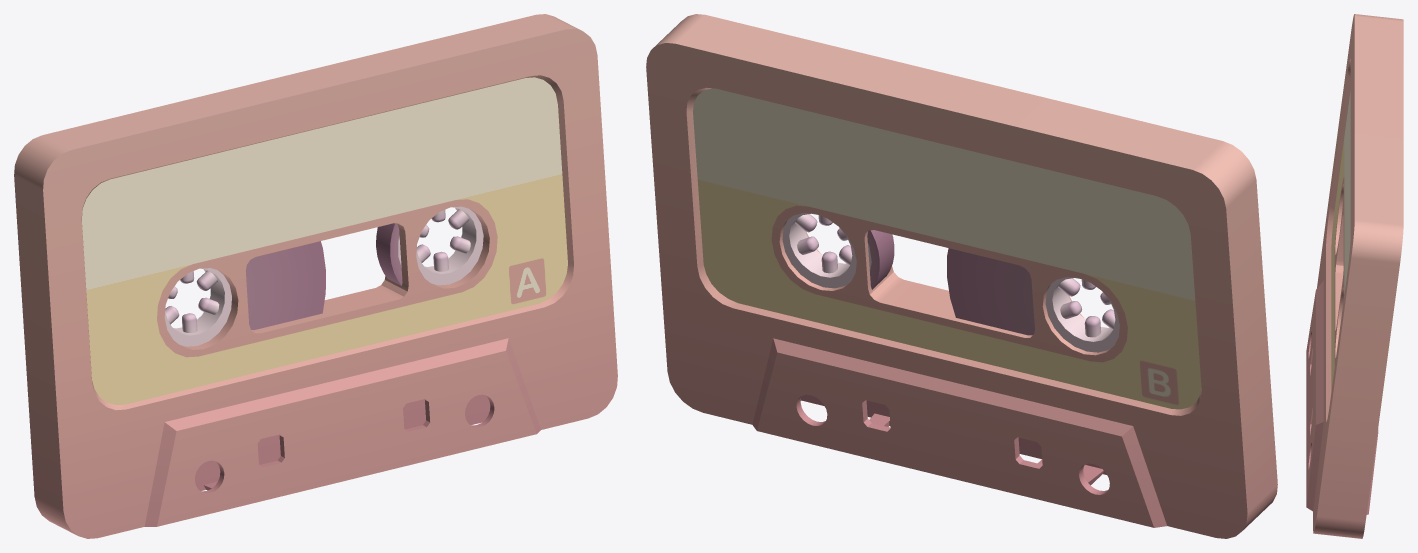
Rendered from 001CassetteFlip.fbx.
3 renders of one model, left to right at view 1: azimuth 30°, elevation 25°; view 2: azimuth 150°, elevation 25°; view 3: azimuth 270°, elevation 25°, orthographic. The views are drawn at different scales.
Parts seen in each view (by area): view 1: REFERENS_CASSETTE:Animatoin00:Cassette, REFERENS_CASSETTE:Animatoin00:Cassette_Tape_1_Left, REFERENS_CASSETTE:Animatoin00:Cassette_Tape_2_Right; view 2: REFERENS_CASSETTE:Animatoin00:Cassette, REFERENS_CASSETTE:Animatoin00:Cassette_Tape_1_Left, REFERENS_CASSETTE:Animatoin00:Cassette_Tape_2_Right; view 3: REFERENS_CASSETTE:Animatoin00:Cassette.
Boxes of the visible parts, x1=… form: REFERENS_CASSETTE:Animatoin00:Cassette: x1=14, y1=14, x2=617, y2=538; REFERENS_CASSETTE:Animatoin00:Cassette_Tape_1_Left: x1=164, y1=241, x2=325, y2=346; REFERENS_CASSETTE:Animatoin00:Cassette_Tape_2_Right: x1=376, y1=206, x2=483, y2=285; REFERENS_CASSETTE:Animatoin00:Cassette: x1=646, y1=14, x2=1277, y2=538; REFERENS_CASSETTE:Animatoin00:Cassette_Tape_1_Left: x1=947, y1=248, x2=1119, y2=352; REFERENS_CASSETTE:Animatoin00:Cassette_Tape_2_Right: x1=782, y1=213, x2=894, y2=289; REFERENS_CASSETTE:Animatoin00:Cassette: x1=1306, y1=14, x2=1403, y2=538.
Size of the model in its own units: 10.02 by 6.52 by 1.81.
